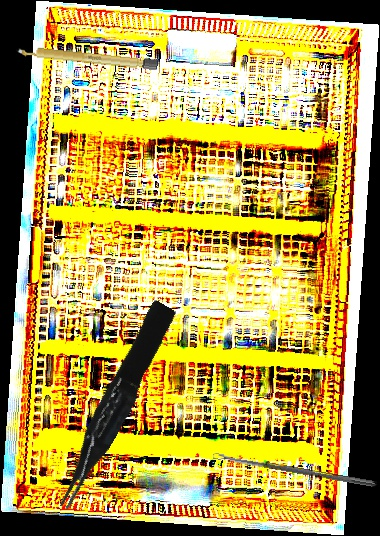Scalpel Handle: (15, 44, 159, 71)
Surgical Spoon: (212, 451, 378, 488)
Tissue Forceps: (41, 299, 186, 513)
